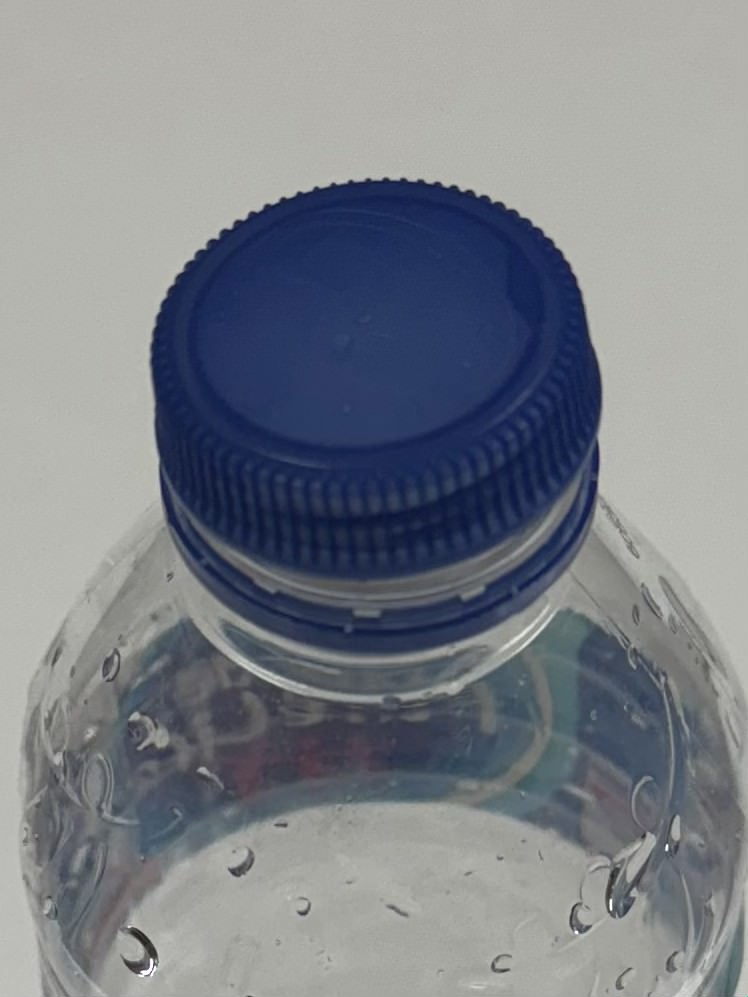half_cap: (142, 170, 610, 654)
